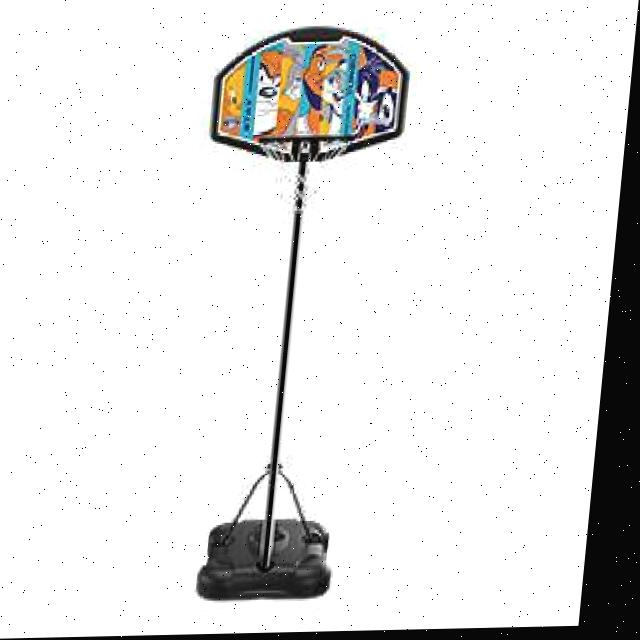hoop: (252, 134, 357, 215)
